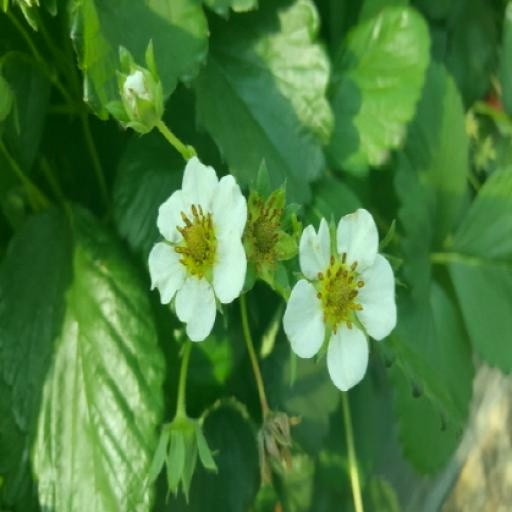Blossom Blight: (142, 251, 201, 336), (292, 200, 341, 281), (229, 200, 268, 260)
